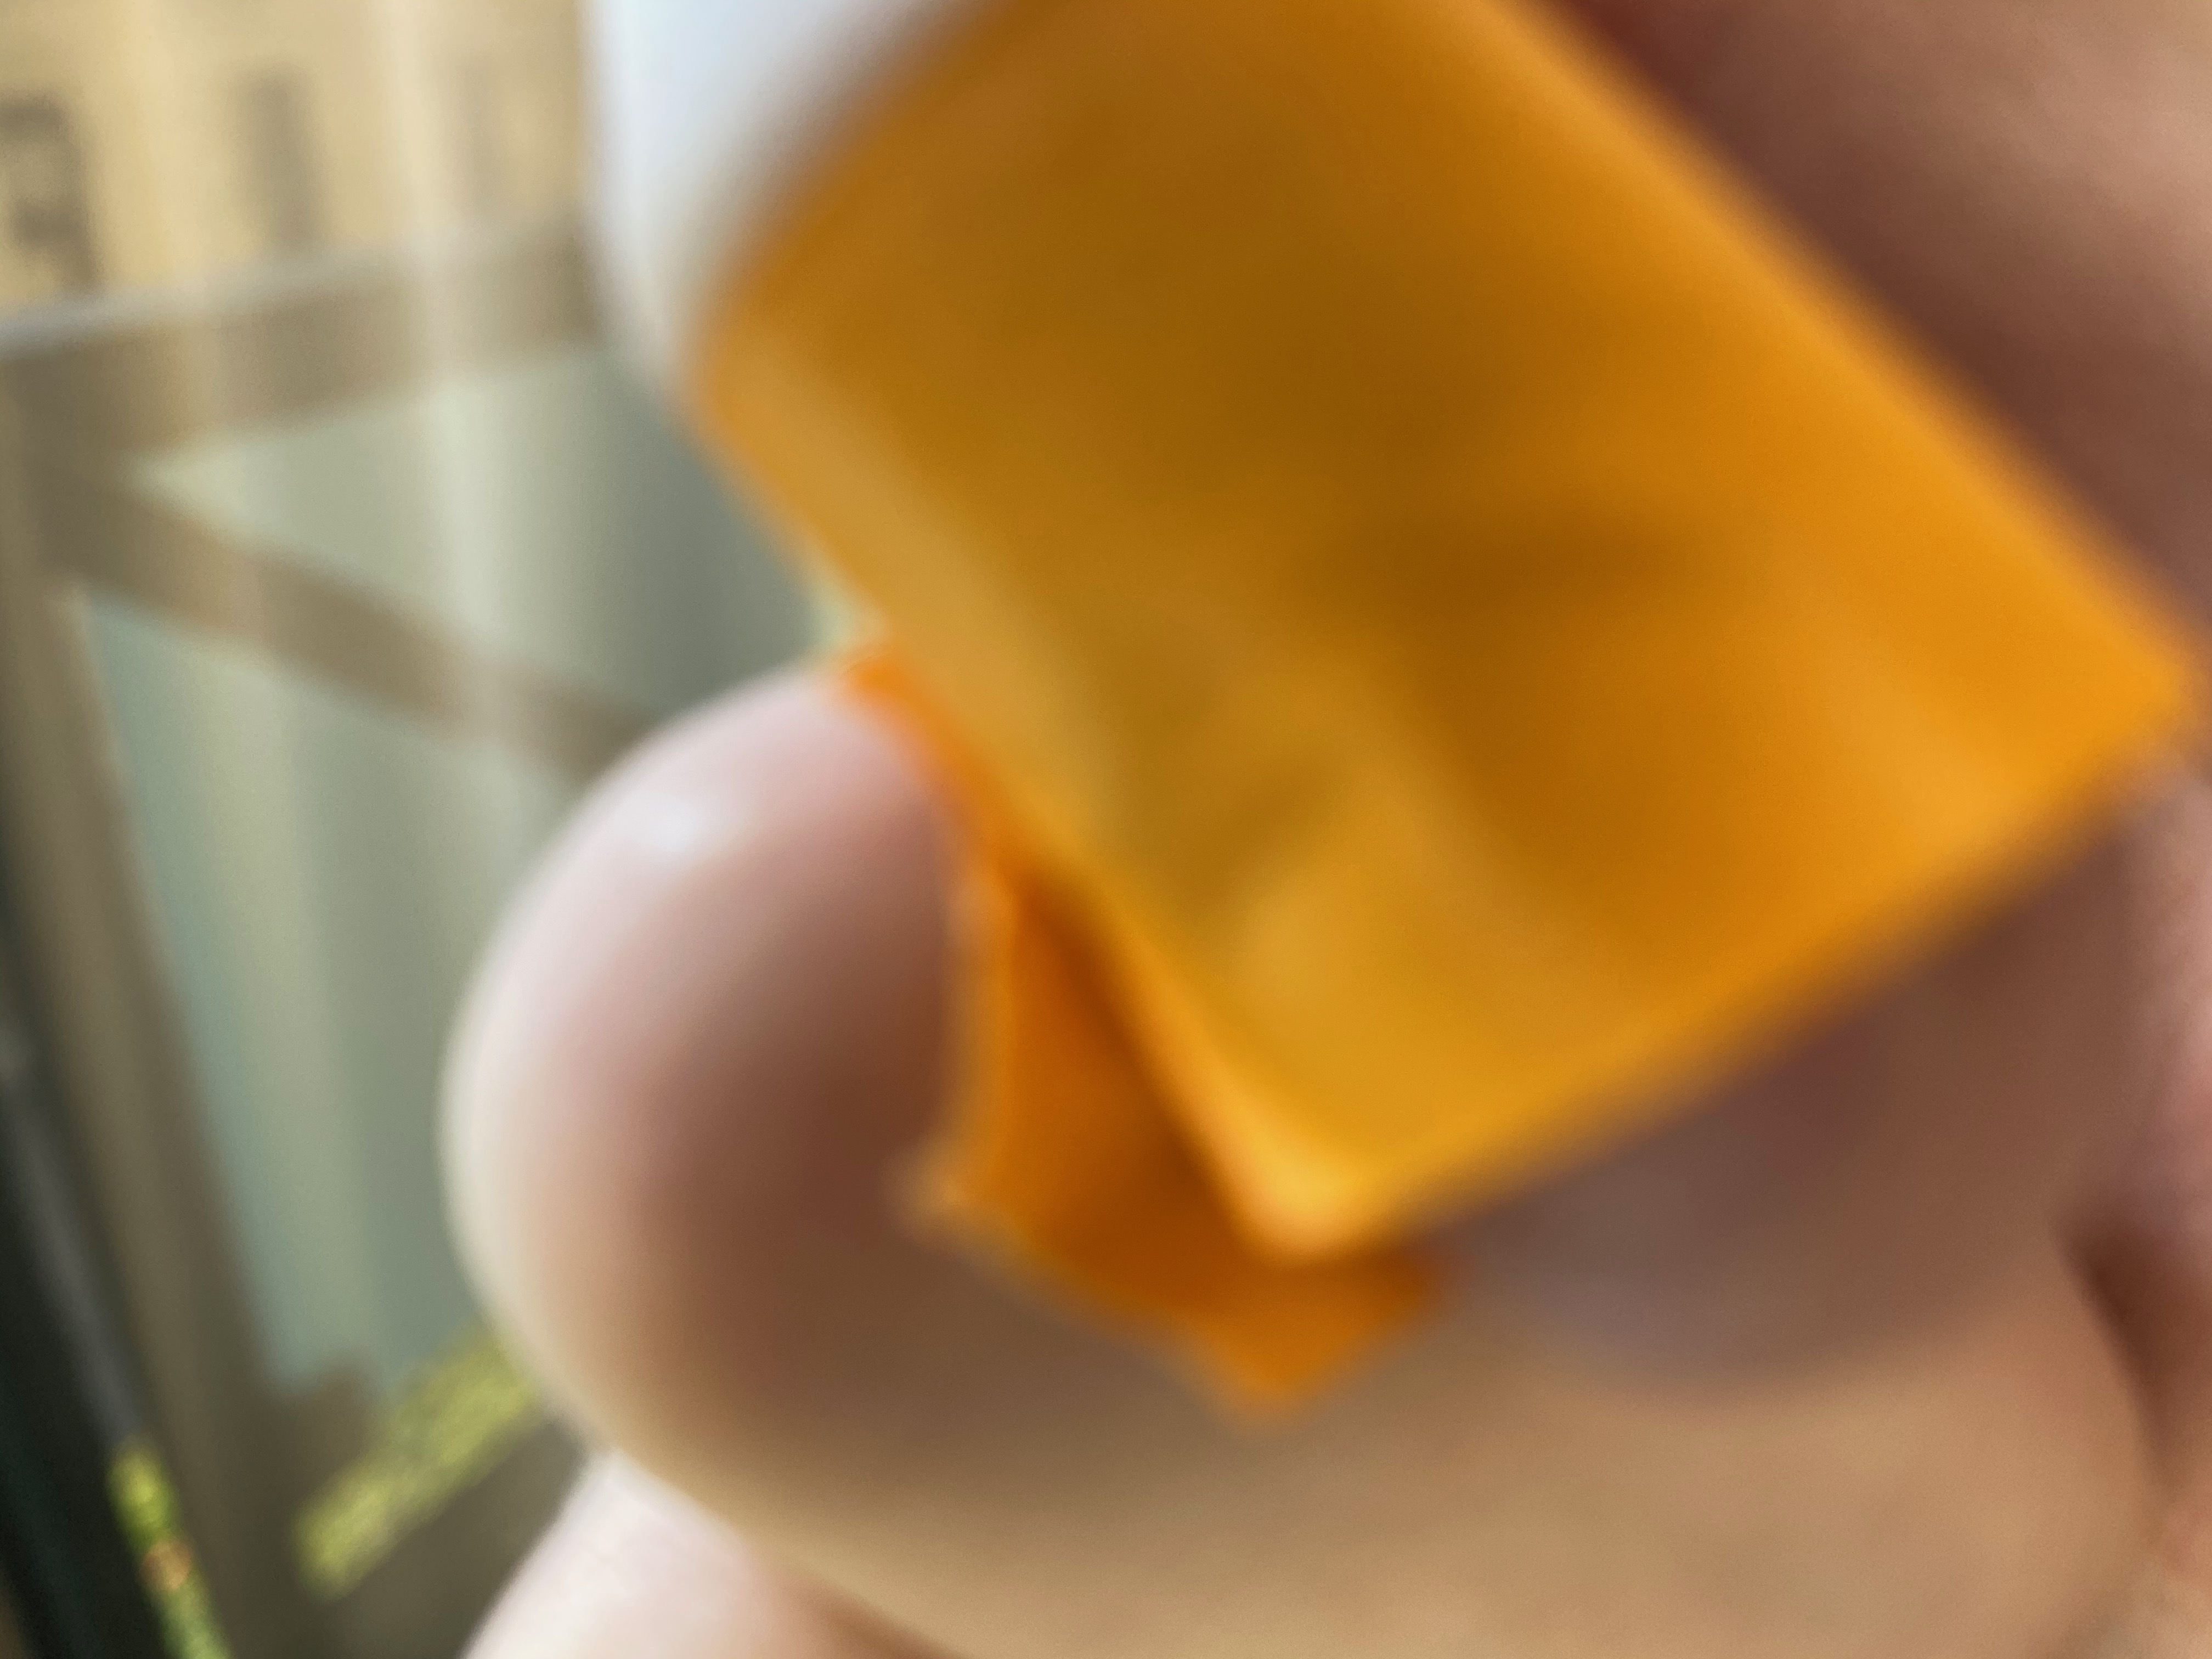fingertip: (580, 7, 2170, 1380)
